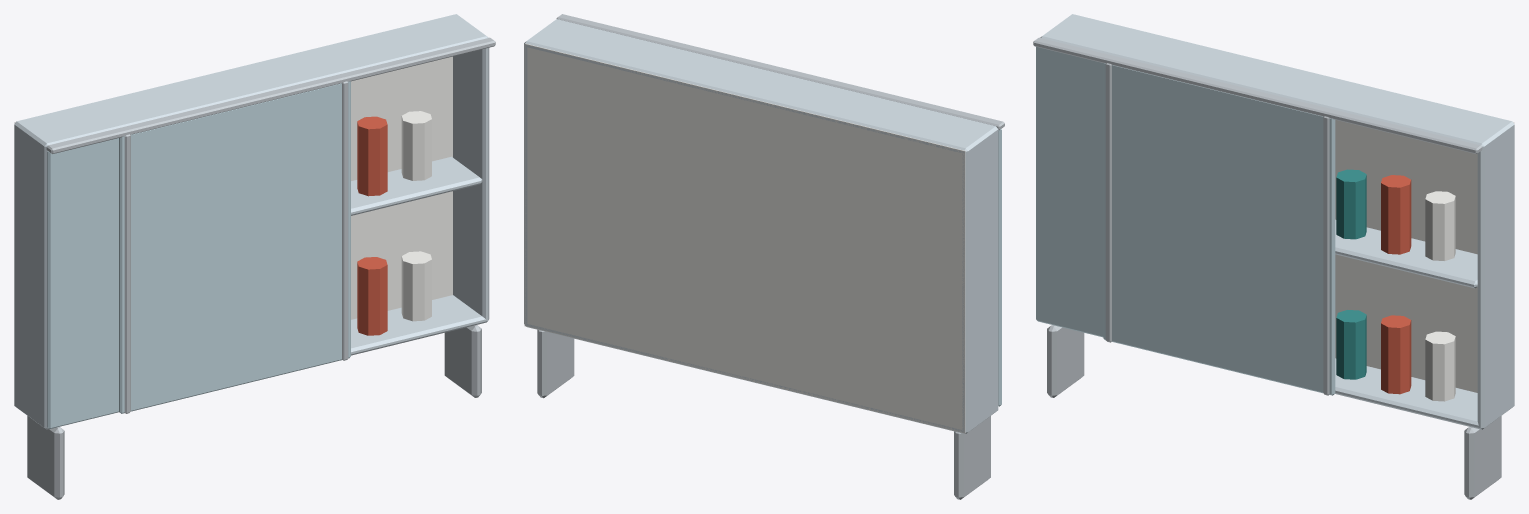
File: sliding_bathroom_cabinet.glb
3 views of the same model, side by side, from view 1: azimuth 30°, elevation 25°; view 2: azimuth 150°, elevation 25°; view 3: azimuth 330°, elevation 25° (orthographic).
Parts seen in each view (by area): view 1: sliding_bathroom_cabinet_Body; view 2: sliding_bathroom_cabinet_Body; view 3: sliding_bathroom_cabinet_Body.
Part boxes in pixels (bbox=[...]): sliding_bathroom_cabinet_Body: bbox=[14, 14, 495, 499]; sliding_bathroom_cabinet_Body: bbox=[524, 14, 1004, 499]; sliding_bathroom_cabinet_Body: bbox=[1033, 14, 1514, 499].
Bounding box in the file's own units: 1.3 × 1 × 0.2.
